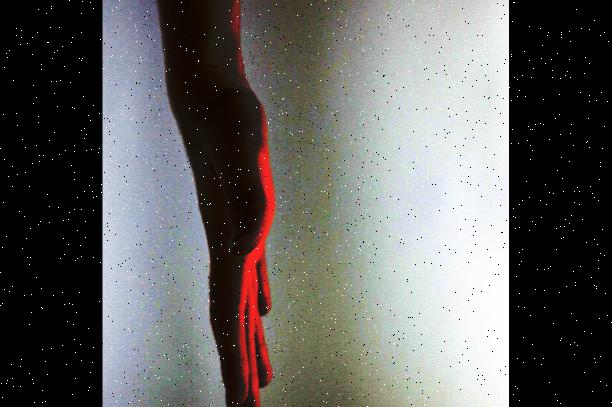Paper: (173, 84, 282, 407)
